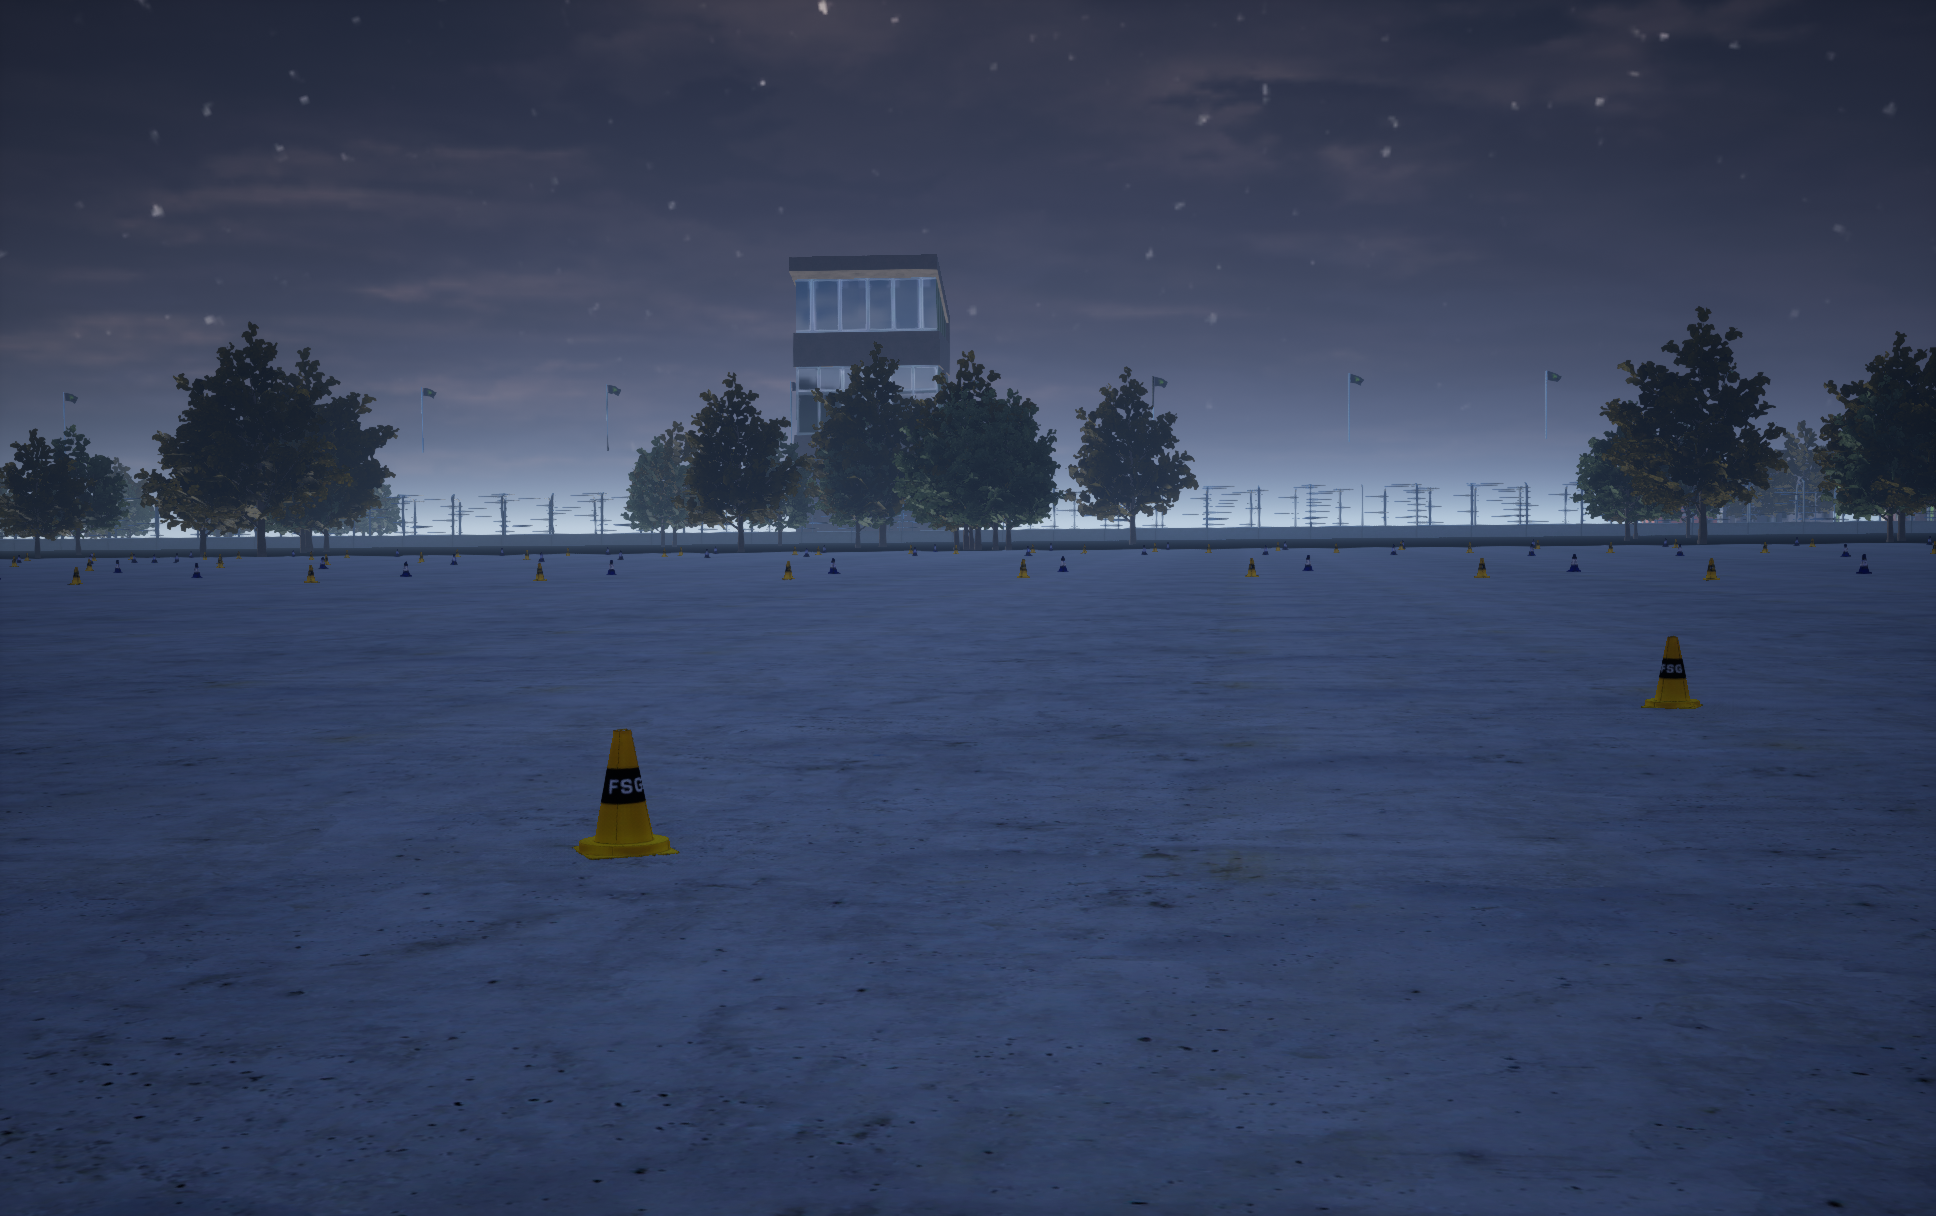blue: (572, 728, 679, 859), (1640, 636, 1702, 707), (1703, 558, 1719, 580), (1474, 558, 1489, 577), (1245, 558, 1258, 576), (1017, 559, 1030, 577), (782, 560, 794, 579)
yellow: (1856, 553, 1872, 573)
